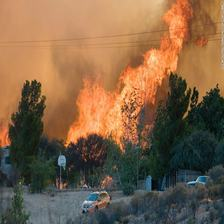fire: (71, 13, 192, 149)
